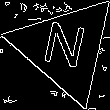N_S: (40, 19, 91, 77)
